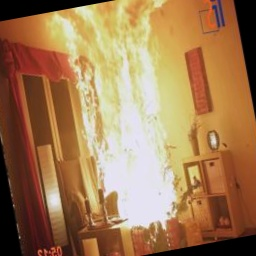fire: (50, 0, 215, 250)
